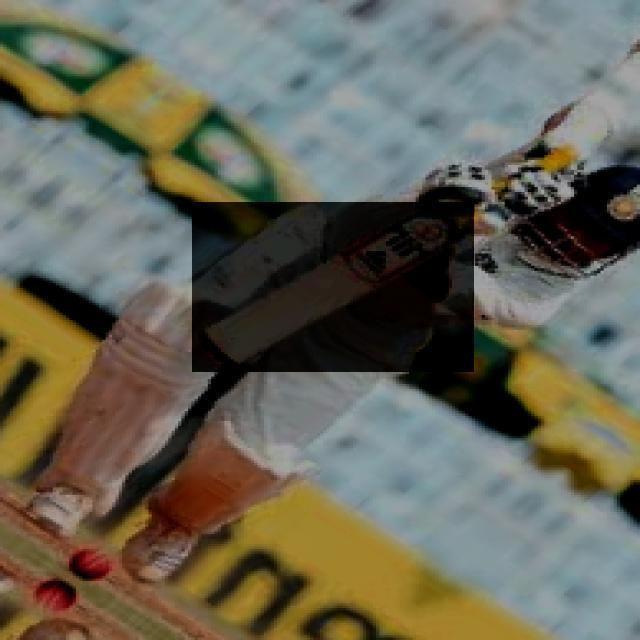bat: (194, 198, 474, 373)
